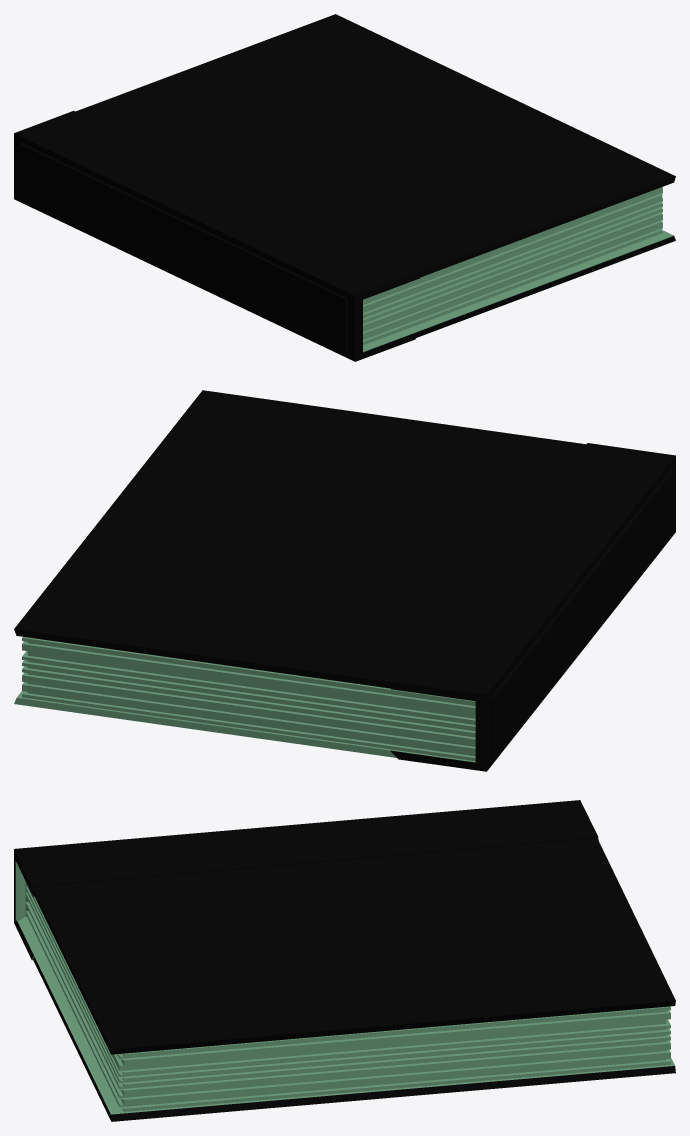
Rendered from BottomShelfBook.fbx.
3 renders of one model, top to bottom at view 1: azimuth 30°, elevation 25°; view 2: azimuth 150°, elevation 25°; view 3: azimuth 270°, elevation 25°, orthographic. The views are drawn at different scales.
Visible parts, largest first — view 1: SadAloneBook; view 2: SadAloneBook; view 3: SadAloneBook.
Part boxes in pixels (bbox=[...]): SadAloneBook: bbox=[14, 14, 675, 361]; SadAloneBook: bbox=[14, 390, 675, 771]; SadAloneBook: bbox=[14, 800, 675, 1121].
Size of the model in its own units: 193 by 26.74 by 216.
